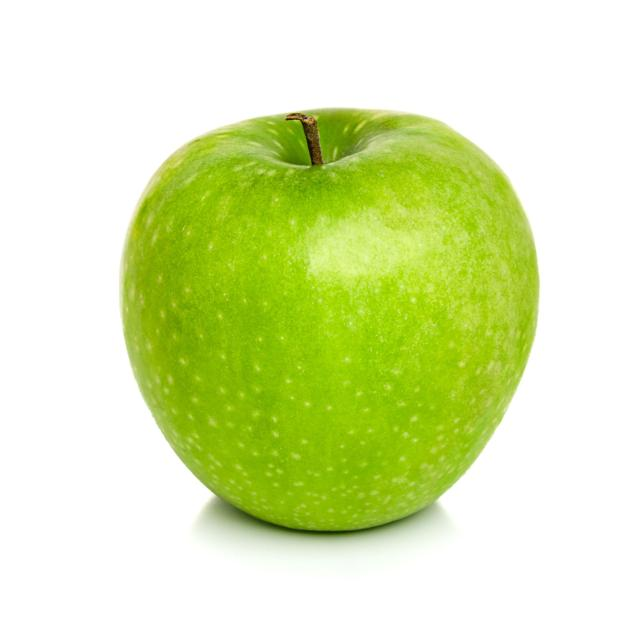Apple: (120, 107, 542, 533)
